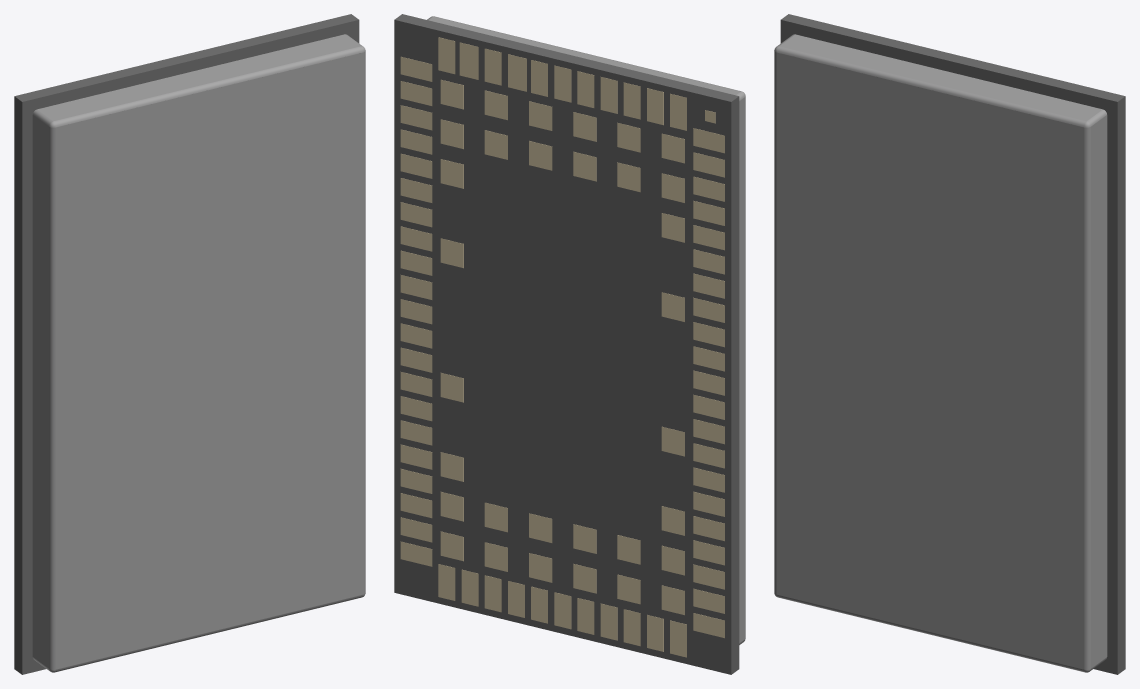
Rendered from ublox_SARA_LGA-96.glb.
3 views of the same model, side by side, from view 1: azimuth 30°, elevation 25°; view 2: azimuth 150°, elevation 25°; view 3: azimuth 330°, elevation 25° (orthographic).
Visible parts, largest first — view 1: Shape_IndexedFaceSet.507, Shape_IndexedFaceSet.004, Shape_IndexedFaceSet.395, Shape_IndexedFaceSet.001, Shape_IndexedFaceSet.401, Shape_IndexedFaceSet.500, Shape_IndexedFaceSet, Shape_IndexedFaceSet.506, Shape_IndexedFaceSet.504, Shape_IndexedFaceSet.502; view 2: Shape_IndexedFaceSet.003, Shape_IndexedFaceSet.001, Shape_IndexedFaceSet.395, Shape_IndexedFaceSet, Shape_IndexedFaceSet.401, Shape_IndexedFaceSet.495, Shape_IndexedFaceSet.487, Shape_IndexedFaceSet.430, Shape_IndexedFaceSet.488, Shape_IndexedFaceSet.496, Shape_IndexedFaceSet.412, Shape_IndexedFaceSet.413 (+90 smaller); view 3: Shape_IndexedFaceSet.507, Shape_IndexedFaceSet.004, Shape_IndexedFaceSet.399, Shape_IndexedFaceSet.002, Shape_IndexedFaceSet.401, Shape_IndexedFaceSet.504, Shape_IndexedFaceSet, Shape_IndexedFaceSet.506, Shape_IndexedFaceSet.500, Shape_IndexedFaceSet.502.
Part boxes in pixels (x1,y1,x2,y2): Shape_IndexedFaceSet.507: (55, 52, 363, 669); Shape_IndexedFaceSet.004: (22, 20, 359, 674); Shape_IndexedFaceSet.395: (32, 115, 48, 668); Shape_IndexedFaceSet.001: (14, 96, 22, 674); Shape_IndexedFaceSet.401: (37, 34, 360, 121); Shape_IndexedFaceSet.500: (49, 127, 55, 669); Shape_IndexedFaceSet: (14, 14, 358, 101); Shape_IndexedFaceSet.506: (53, 46, 363, 127); Shape_IndexedFaceSet.504: (363, 51, 365, 594); Shape_IndexedFaceSet.502: (55, 594, 362, 672); Shape_IndexedFaceSet.003: (394, 20, 731, 674); Shape_IndexedFaceSet.001: (731, 96, 739, 674); Shape_IndexedFaceSet.395: (739, 97, 744, 642); Shape_IndexedFaceSet: (394, 14, 738, 101); Shape_IndexedFaceSet.401: (429, 16, 740, 95); Shape_IndexedFaceSet.495: (459, 42, 478, 79); Shape_IndexedFaceSet.487: (508, 54, 526, 91); Shape_IndexedFaceSet.430: (484, 575, 501, 612); Shape_IndexedFaceSet.488: (484, 48, 501, 85); Shape_IndexedFaceSet.496: (438, 37, 455, 74); Shape_IndexedFaceSet.412: (623, 609, 640, 646); Shape_IndexedFaceSet.413: (600, 603, 617, 640); Shape_IndexedFaceSet.507: (776, 52, 1084, 669); Shape_IndexedFaceSet.004: (780, 20, 1117, 674); Shape_IndexedFaceSet.399: (1091, 115, 1107, 668); Shape_IndexedFaceSet.002: (1117, 96, 1125, 674); Shape_IndexedFaceSet.401: (779, 34, 1102, 121); Shape_IndexedFaceSet.504: (1084, 127, 1090, 669); Shape_IndexedFaceSet: (781, 14, 1125, 101); Shape_IndexedFaceSet.506: (776, 46, 1086, 127); Shape_IndexedFaceSet.500: (774, 51, 776, 594); Shape_IndexedFaceSet.502: (777, 594, 1084, 672).
Bounding box in the file's own units: 6.3 × 10.24 × 0.8661.
